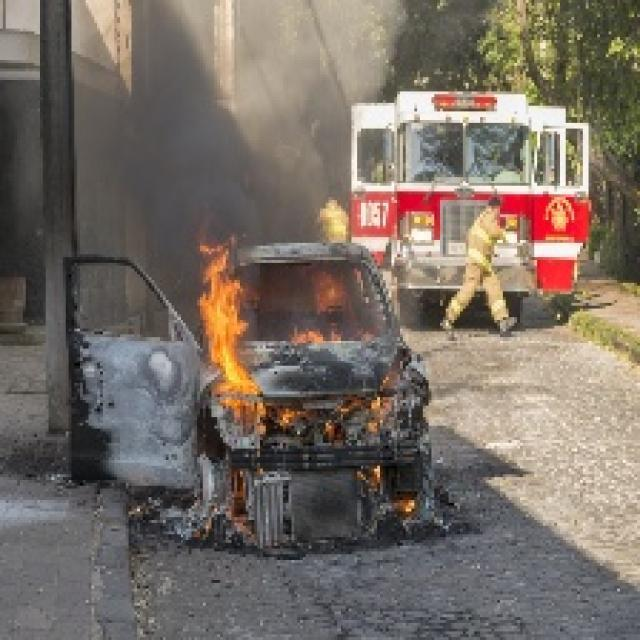Fire: (198, 238, 262, 416)
Smoke: (142, 2, 324, 231)
